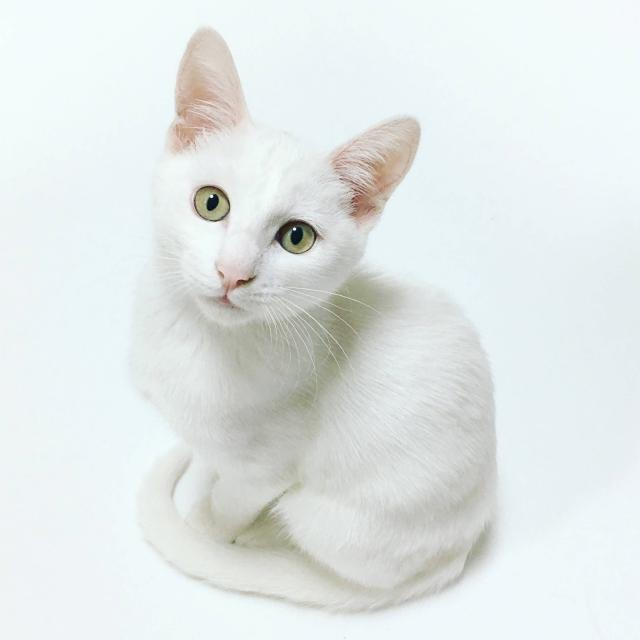Khao Manee: (116, 19, 503, 619)
